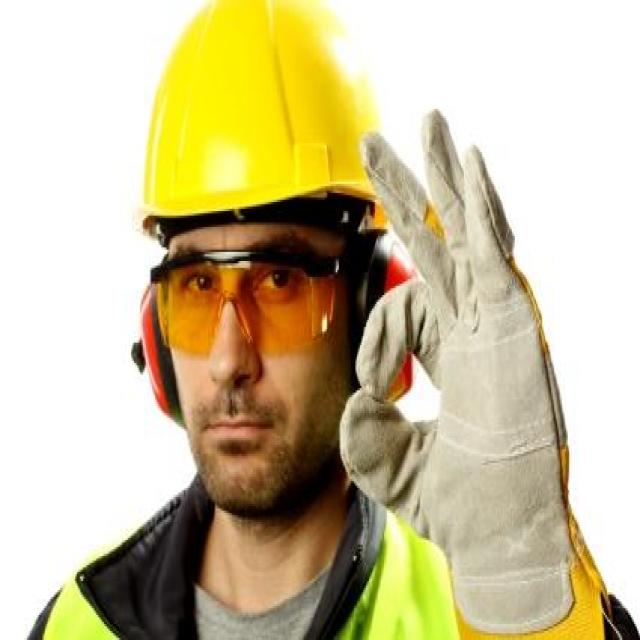Reflective-Jacket: (37, 501, 472, 640)
Safety-Helmet: (139, 7, 384, 231)
